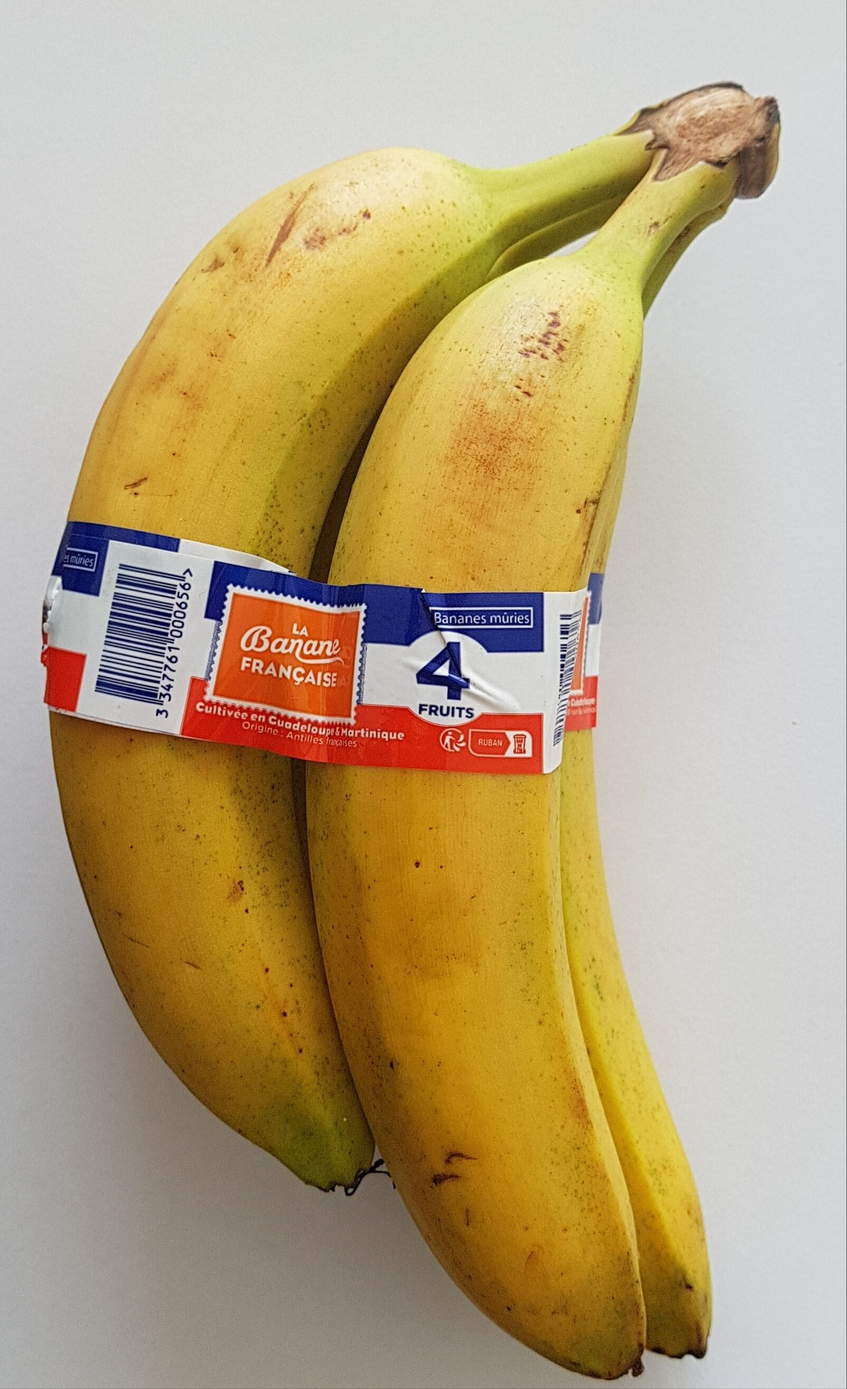La banane Francaise: (42, 69, 805, 1320)
